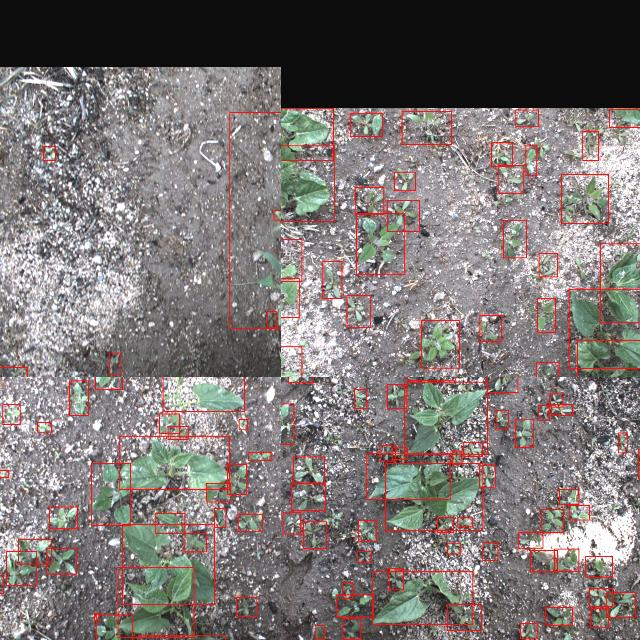crop: (229, 111, 281, 328), (122, 524, 214, 604), (385, 462, 483, 530), (404, 381, 488, 453), (120, 436, 230, 488), (569, 288, 640, 368), (118, 566, 194, 638), (373, 572, 473, 624), (281, 145, 333, 221), (366, 453, 449, 499), (600, 243, 640, 322), (163, 377, 244, 411), (281, 107, 333, 159), (577, 339, 640, 377), (92, 463, 130, 525), (156, 512, 184, 532)
weed: (357, 212, 405, 274), (562, 173, 608, 223), (421, 320, 459, 368), (402, 110, 452, 144), (387, 199, 419, 231), (7, 551, 37, 585), (96, 614, 132, 640), (291, 484, 325, 511), (18, 538, 52, 564), (447, 604, 481, 630), (281, 239, 302, 281), (354, 186, 384, 214), (504, 219, 526, 257), (336, 595, 374, 617), (46, 547, 76, 573), (294, 456, 324, 482), (606, 592, 636, 618), (350, 112, 382, 136), (347, 295, 371, 327), (322, 260, 342, 298), (281, 277, 299, 317), (498, 164, 522, 192), (480, 314, 502, 342), (49, 506, 77, 528), (530, 550, 558, 572), (537, 298, 555, 332), (70, 380, 88, 414), (554, 548, 578, 572), (304, 522, 326, 548), (609, 108, 640, 126), (228, 464, 246, 494), (541, 508, 563, 532), (281, 403, 294, 443), (586, 556, 612, 576), (515, 419, 533, 447), (538, 252, 558, 276), (583, 130, 599, 160), (492, 141, 512, 165), (206, 482, 230, 502), (387, 384, 407, 408), (546, 607, 572, 625), (184, 532, 206, 552), (486, 377, 517, 391), (238, 513, 262, 531), (159, 413, 179, 433), (394, 172, 416, 190), (358, 520, 376, 542), (283, 512, 301, 534), (343, 618, 361, 640), (590, 588, 612, 606), (519, 532, 543, 548), (516, 108, 538, 125), (237, 598, 257, 616), (591, 608, 609, 628), (388, 568, 404, 590), (536, 362, 559, 377), (3, 403, 20, 423), (480, 464, 494, 488), (570, 504, 590, 520), (559, 488, 579, 504), (526, 145, 536, 175), (95, 377, 122, 388), (482, 542, 498, 560), (0, 367, 27, 377), (463, 442, 482, 456), (437, 516, 453, 532), (520, 624, 538, 638), (168, 426, 188, 438), (354, 388, 366, 408), (496, 409, 508, 428), (380, 446, 396, 460), (110, 352, 120, 374), (214, 508, 226, 526), (618, 432, 628, 452), (552, 404, 572, 414), (248, 452, 272, 460), (538, 404, 550, 420), (44, 145, 56, 159), (357, 550, 371, 562), (549, 394, 563, 406), (266, 311, 276, 327), (343, 582, 353, 598), (392, 448, 408, 458), (448, 542, 460, 554), (37, 421, 51, 431), (452, 450, 462, 464), (288, 377, 313, 382), (316, 625, 324, 639), (458, 518, 472, 526), (238, 418, 248, 429), (274, 209, 281, 219), (0, 469, 8, 476), (94, 612, 98, 620)
